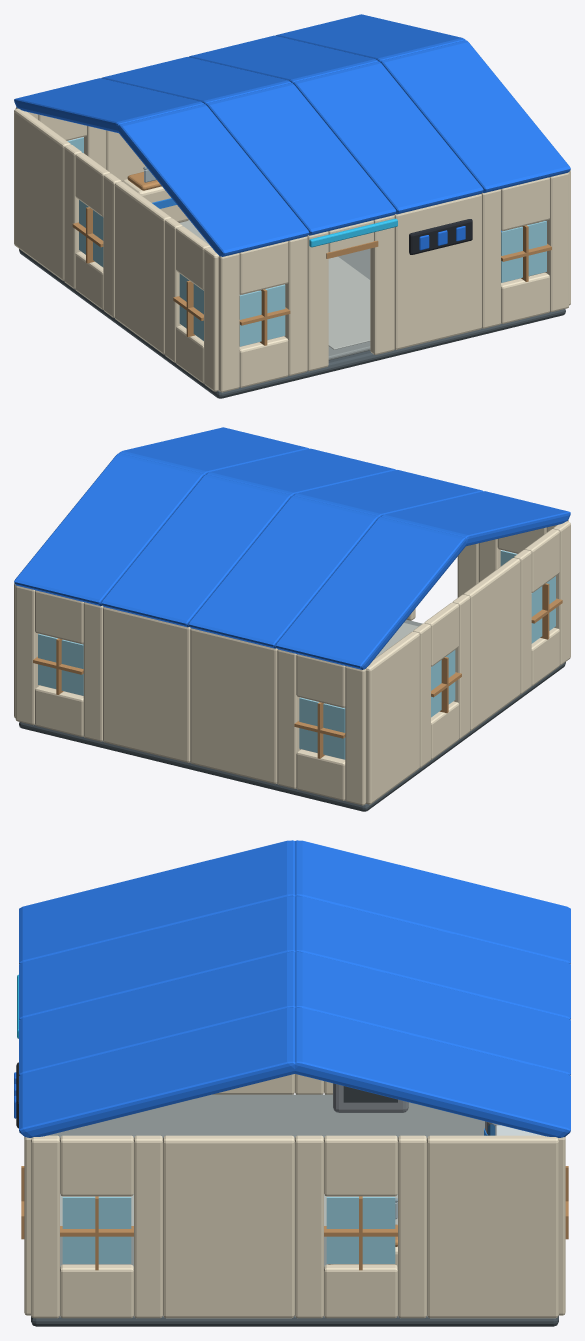
Rendered from FTF_Building_TeamKitchen_Blue_8x8m.glb.
The picture shows the model from 3 angles, top to bottom: view 1: azimuth 30°, elevation 25°; view 2: azimuth 150°, elevation 25°; view 3: azimuth 270°, elevation 25°; orthographic projection. The views are drawn at different scales.
Visible parts, largest first — view 1: SM_FTF_Building_Roof_2m_Slope_00.004, SM_FTF_Building_Roof_2m_Slope_00.006, SM_FTF_Building_Roof_2m_Slope_00.007, SM_FTF_Building_Roof_2m_Slope_00.005, SM_FTF_Building_Wall_2m_Body.007, SM_FTF_Building_Wall_2m_Body.011, SM_FTF_Building_Wall_2m_Body.010, SM_FTF_Building_Roof_2m_Slope_01.004, SM_FTF_Building_Roof_2m_Slope_01.007, SM_FTF_Building_Roof_2m_Slope_01.006, SM_FTF_Building_Roof_2m_Slope_01.005, Blue_MainAisle (+31 smaller); view 2: SM_FTF_Building_Roof_2m_Slope_01.004, SM_FTF_Building_Roof_2m_Slope_01.005, SM_FTF_Building_Roof_2m_Slope_01.006, SM_FTF_Building_Roof_2m_Slope_01.007, SM_FTF_Building_Wall_2m_Body.008, SM_FTF_Building_Wall_2m_Body.009, SM_FTF_Building_Wall_2m_Body.010, SM_FTF_Building_Wall_2m_Body.011, SM_FTF_Building_Roof_2m_Slope_00.004, SM_FTF_Building_Roof_2m_Slope_00.007, SM_FTF_Building_Roof_2m_Slope_00.005, SM_FTF_Building_Roof_2m_Slope_00.006 (+24 smaller); view 3: SM_FTF_Building_Wall_2m_Body.012, SM_FTF_Building_Wall_2m_Body.013, SM_FTF_Building_Roof_2m_Slope_00.007, SM_FTF_Building_Roof_2m_Slope_01.007, SM_FTF_Building_Roof_2m_Slope_00.004, SM_FTF_Building_Roof_2m_Slope_01.004, SM_FTF_Building_Roof_2m_Slope_00.005, SM_FTF_Building_Roof_2m_Slope_01.005, SM_FTF_Building_Roof_2m_Slope_00.006, SM_FTF_Building_Roof_2m_Slope_01.006, Blue_Floor, SM_FTF_Building_Window_2m_Right.014 (+14 smaller).
Part boxes in pixels (x1,y1,x2,y2): SM_FTF_Building_Roof_2m_Slope_00.004: (118,104,309,256); SM_FTF_Building_Roof_2m_Slope_00.006: (293,61,483,214); SM_FTF_Building_Roof_2m_Slope_00.007: (380,40,570,192); SM_FTF_Building_Roof_2m_Slope_00.005: (206,82,396,235); SM_FTF_Building_Wall_2m_Body.007: (394,194,481,349); SM_FTF_Building_Wall_2m_Body.011: (114,181,171,354); SM_FTF_Building_Wall_2m_Body.010: (14,108,70,280); SM_FTF_Building_Roof_2m_Slope_01.004: (14,78,203,133); SM_FTF_Building_Roof_2m_Slope_01.007: (275,14,465,61); SM_FTF_Building_Roof_2m_Slope_01.006: (189,35,378,82); SM_FTF_Building_Roof_2m_Slope_01.005: (101,57,290,104); Blue_MainAisle: (179,220,370,349); SM_FTF_Building_Roof_2m_Slope_01.004: (275,517,466,669); SM_FTF_Building_Roof_2m_Slope_01.005: (188,495,378,648); SM_FTF_Building_Roof_2m_Slope_01.006: (101,474,291,627); SM_FTF_Building_Roof_2m_Slope_01.007: (14,453,204,605); SM_FTF_Building_Wall_2m_Body.008: (103,607,190,762); SM_FTF_Building_Wall_2m_Body.009: (190,628,277,783); SM_FTF_Building_Wall_2m_Body.010: (366,631,419,804); SM_FTF_Building_Wall_2m_Body.011: (463,558,520,730); SM_FTF_Building_Roof_2m_Slope_00.004: (381,491,570,546); SM_FTF_Building_Roof_2m_Slope_00.007: (119,427,308,474); SM_FTF_Building_Roof_2m_Slope_00.005: (293,470,482,517); SM_FTF_Building_Roof_2m_Slope_00.006: (206,448,395,495); SM_FTF_Building_Wall_2m_Body.012: (163,1135,294,1318); SM_FTF_Building_Wall_2m_Body.013: (427,1135,558,1318); SM_FTF_Building_Roof_2m_Slope_00.007: (19,1007,295,1137); SM_FTF_Building_Roof_2m_Slope_01.007: (294,1007,570,1137); SM_FTF_Building_Roof_2m_Slope_00.004: (19,840,294,963); SM_FTF_Building_Roof_2m_Slope_01.004: (295,840,570,963); SM_FTF_Building_Roof_2m_Slope_00.005: (19,896,294,1019); SM_FTF_Building_Roof_2m_Slope_01.005: (295,896,570,1019); SM_FTF_Building_Roof_2m_Slope_00.006: (19,952,294,1075); SM_FTF_Building_Roof_2m_Slope_01.006: (295,952,570,1075); Blue_Floor: (48,1094,484,1266); SM_FTF_Building_Window_2m_Right.014: (134,1135,162,1318).
Bounding box in the file's own units: 8.29 × 4.45 × 8.44.
